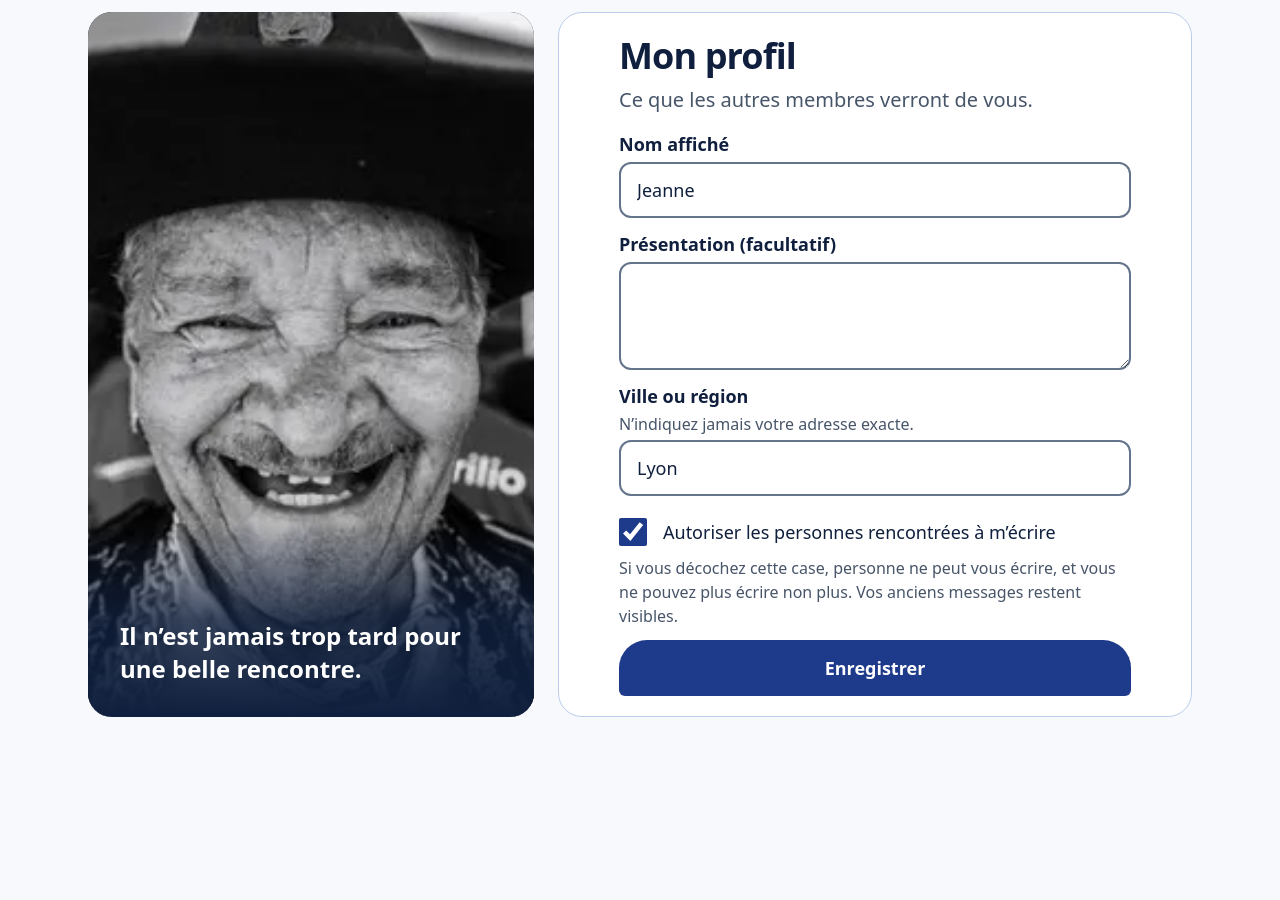
ProfileView › enregistre et confirme
The image size is (1280, 900).
Replace the text in the field with id "displayName" with "Jeanne D". click: (875, 190)
box: [619,162,1131,218]
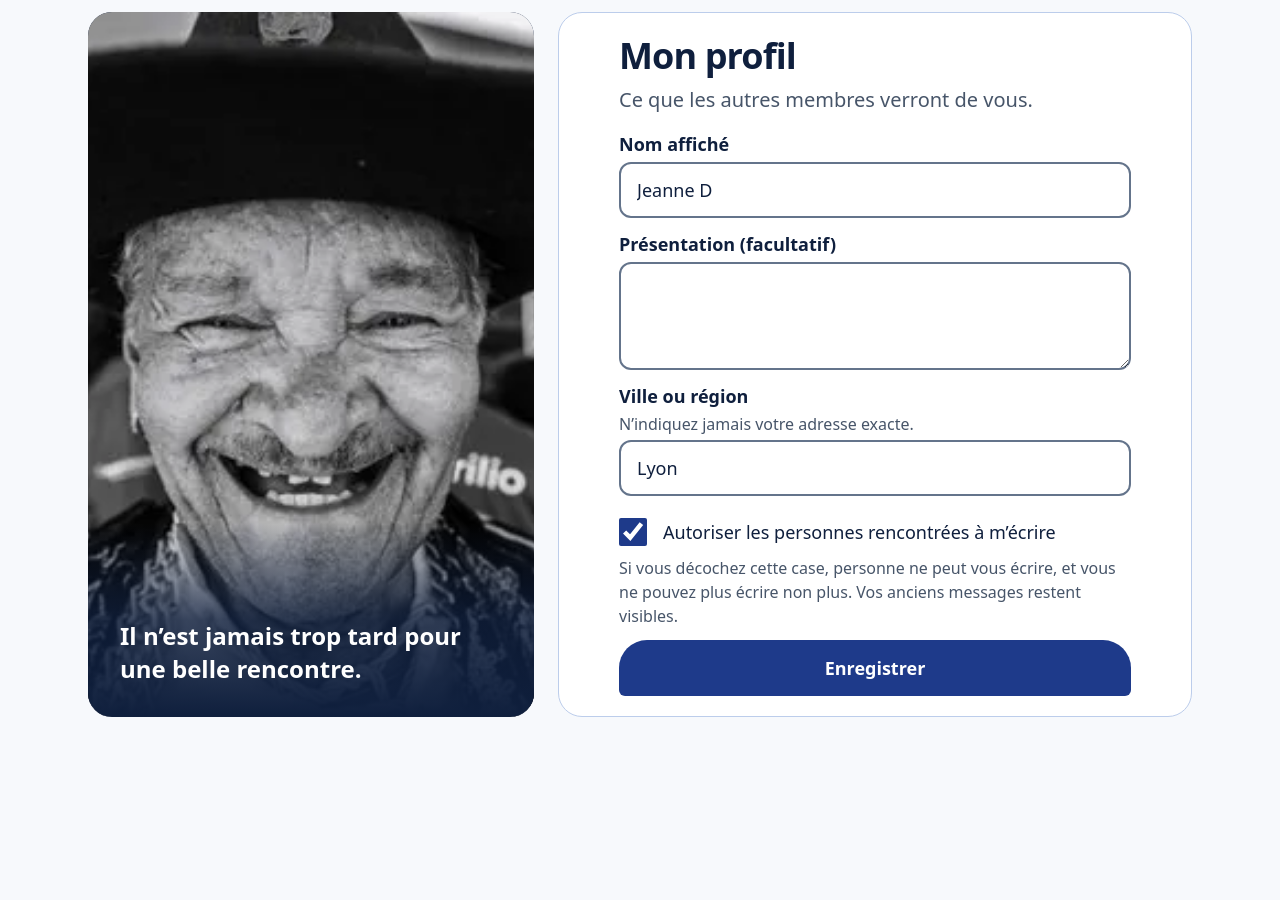
Submit the form, box [619,130,1131,696]
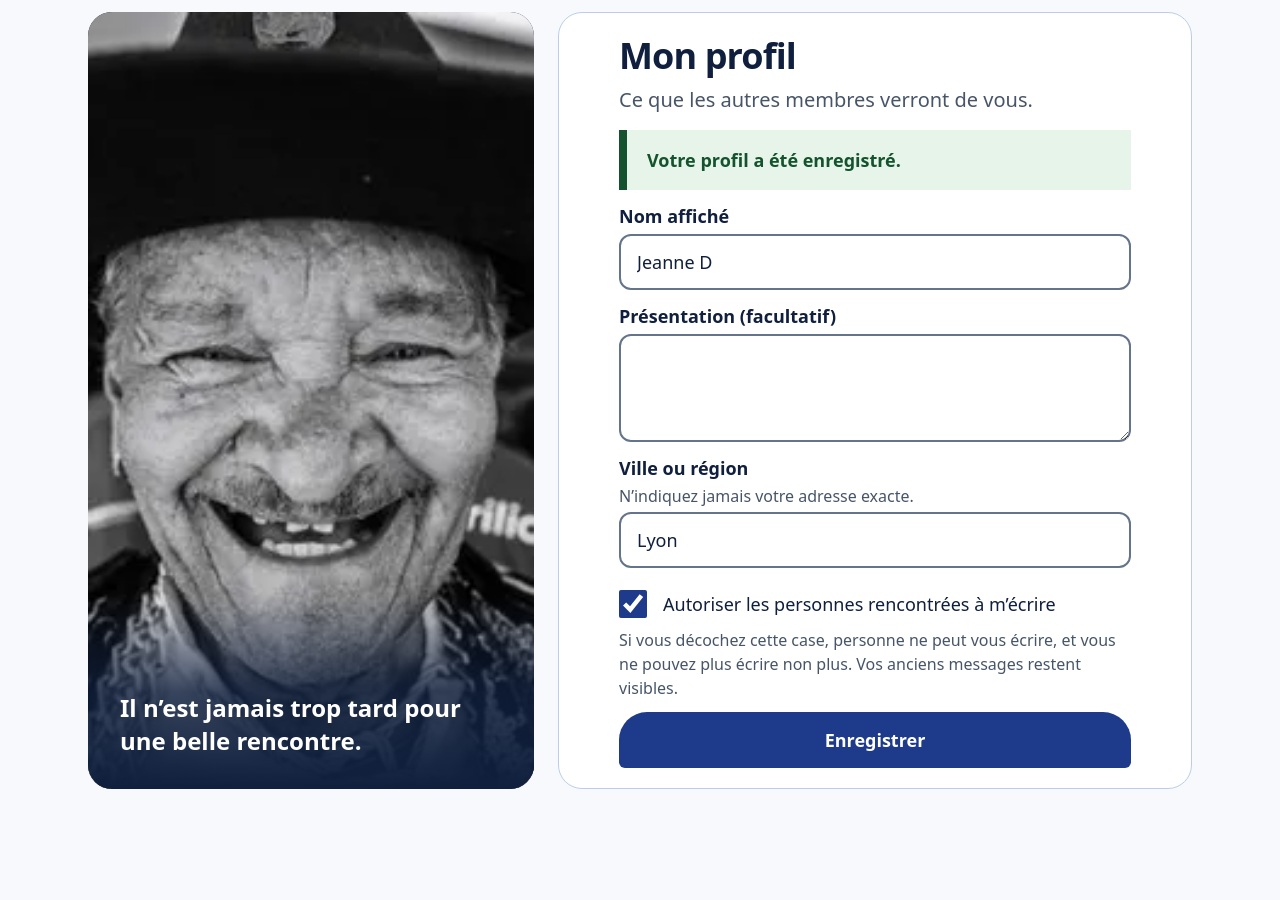
Expected: the text "Votre profil a été enregistré." is shown, [619,130,1131,190]
